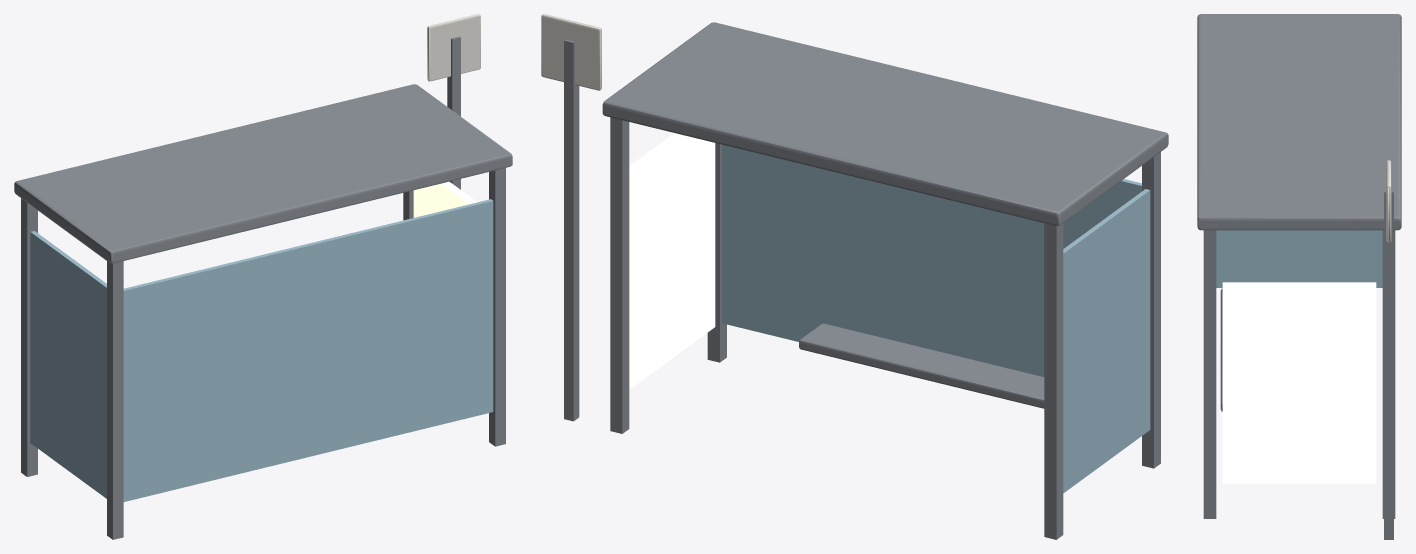
The model's file is shelter.glb.
The picture shows the model from 3 angles, left to right: view 1: azimuth 30°, elevation 25°; view 2: azimuth 150°, elevation 25°; view 3: azimuth 270°, elevation 25°; orthographic projection. The views are drawn at different scales.
Parts seen in each view (by area): view 1: part-shelter-glass, part-steel, part-enamel-white, part-shelter-ad; view 2: part-steel, part-shelter-glass, part-shelter-ad, part-enamel-white; view 3: part-steel, part-shelter-ad, part-shelter-glass, part-enamel-white.
Boxes of the visible parts, x1,y1,x2,y2 form: part-shelter-glass: (30, 199, 493, 501); part-steel: (14, 36, 512, 539); part-enamel-white: (427, 14, 480, 81); part-shelter-ad: (413, 181, 477, 217); part-steel: (564, 22, 1168, 539); part-shelter-glass: (722, 144, 1150, 493); part-shelter-ad: (629, 133, 715, 387); part-enamel-white: (541, 14, 601, 90); part-steel: (1197, 14, 1401, 539); part-shelter-ad: (1222, 282, 1376, 483); part-shelter-glass: (1216, 230, 1382, 287); part-enamel-white: (1386, 160, 1391, 242).
Size of the model in its own units: 43.5 by 31.5 by 16.
